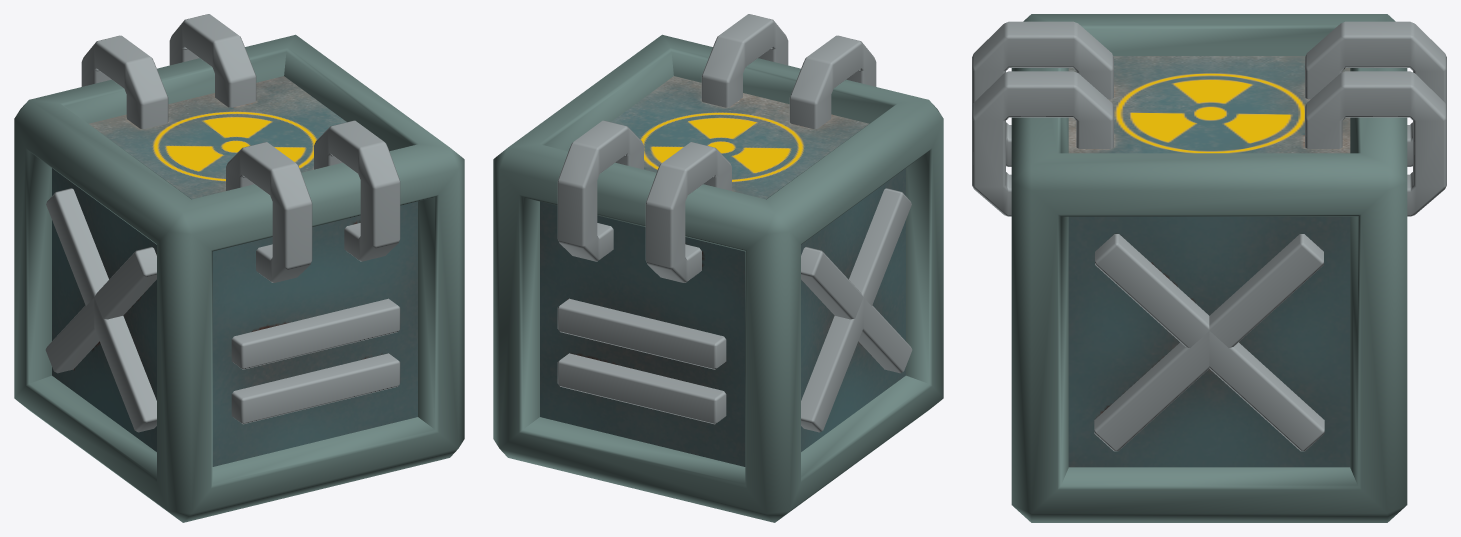
File: SM_Props_27.fbx
3 views of the same model, side by side, from view 1: azimuth 30°, elevation 25°; view 2: azimuth 150°, elevation 25°; view 3: azimuth 270°, elevation 25° (orthographic). The views are drawn at different scales.
Visible parts, largest first — view 1: SM_Props_27; view 2: SM_Props_27; view 3: SM_Props_27.
Boxes of the visible parts, box(x1,y1,x2,y2) form: SM_Props_27: box(14, 14, 464, 522); SM_Props_27: box(493, 14, 943, 522); SM_Props_27: box(972, 14, 1446, 522).
Bounding box in the file's own units: 34.36 × 41.24 × 37.91.
Materials: 1 (1 with a texture image).
